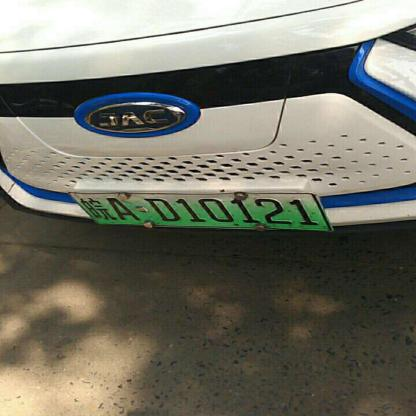lp: (68, 191, 332, 230)
